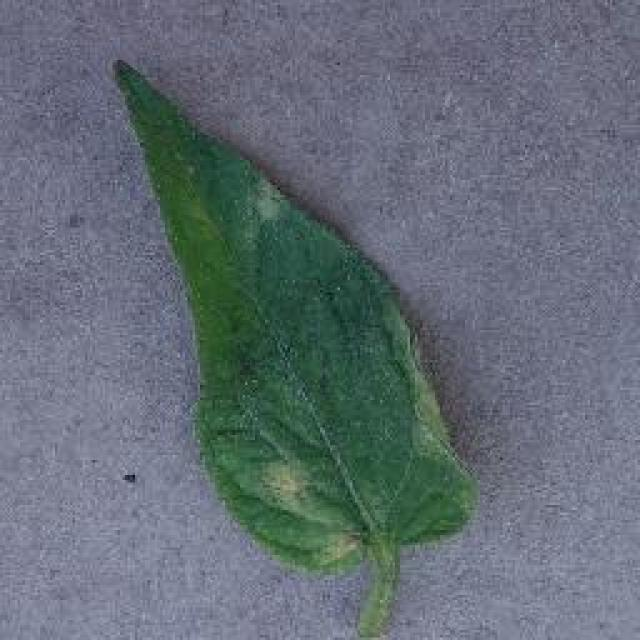Tomato mold leaf: (112, 55, 480, 567)
